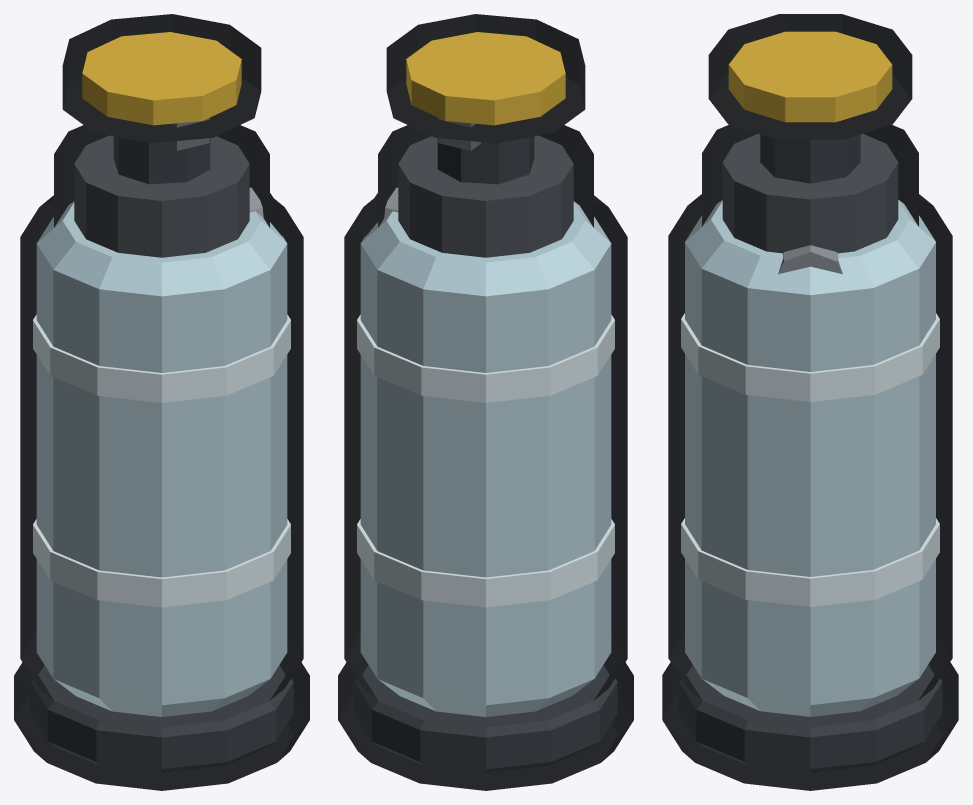
3 renders of one model, left to right at view 1: azimuth 30°, elevation 25°; view 2: azimuth 150°, elevation 25°; view 3: azimuth 270°, elevation 25°, orthographic.
Visible parts, largest first — view 1: SM_Mat_LN2, SM_Mat_LN2_Outline; view 2: SM_Mat_LN2, SM_Mat_LN2_Outline; view 3: SM_Mat_LN2, SM_Mat_LN2_Outline.
Boxes of the visible parts, x1,y1,x2,y2 form: SM_Mat_LN2: [30, 32, 293, 772]; SM_Mat_LN2_Outline: [14, 14, 309, 790]; SM_Mat_LN2: [354, 32, 617, 772]; SM_Mat_LN2_Outline: [338, 14, 633, 790]; SM_Mat_LN2: [678, 31, 942, 772]; SM_Mat_LN2_Outline: [662, 14, 958, 790].
Bounding box in the file's own units: 0.2361 × 0.597 × 0.2361.
Materials: 2 (1 with a texture image).
